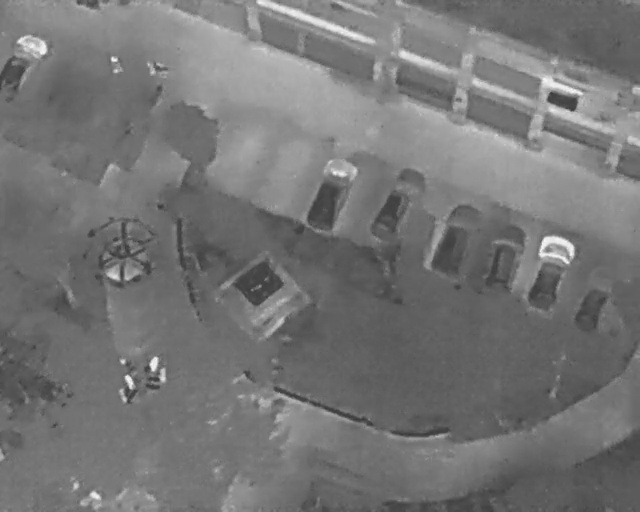Car: (423, 196, 494, 286), (364, 161, 434, 251), (300, 151, 363, 238), (518, 229, 580, 316), (476, 218, 532, 298), (567, 267, 621, 338), (0, 30, 48, 102)
Person: (144, 58, 170, 79), (107, 53, 127, 77)
